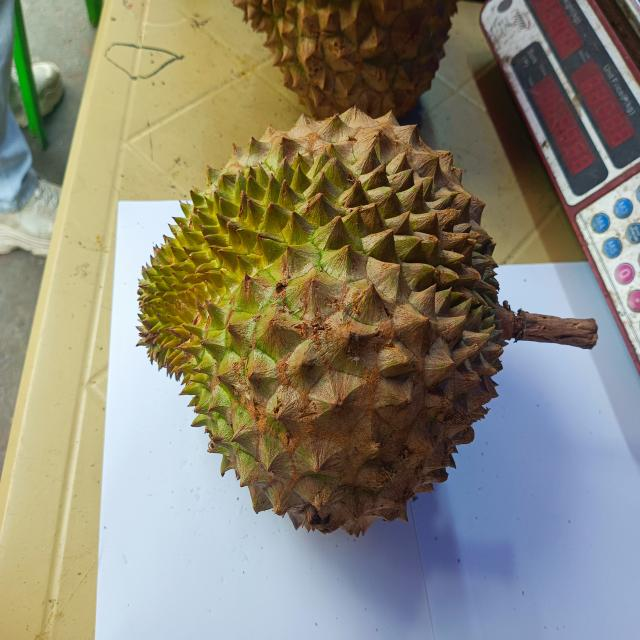mature: (138, 107, 597, 536)
